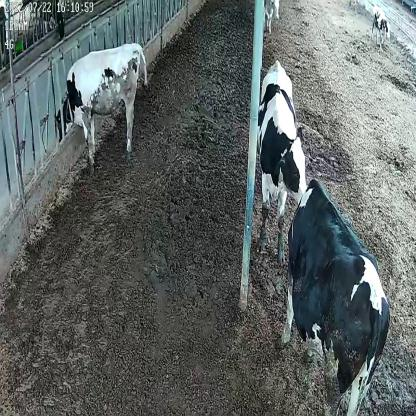cow: (277, 180, 390, 416), (55, 40, 147, 168), (257, 57, 307, 266), (368, 4, 390, 48), (263, 0, 282, 35)
